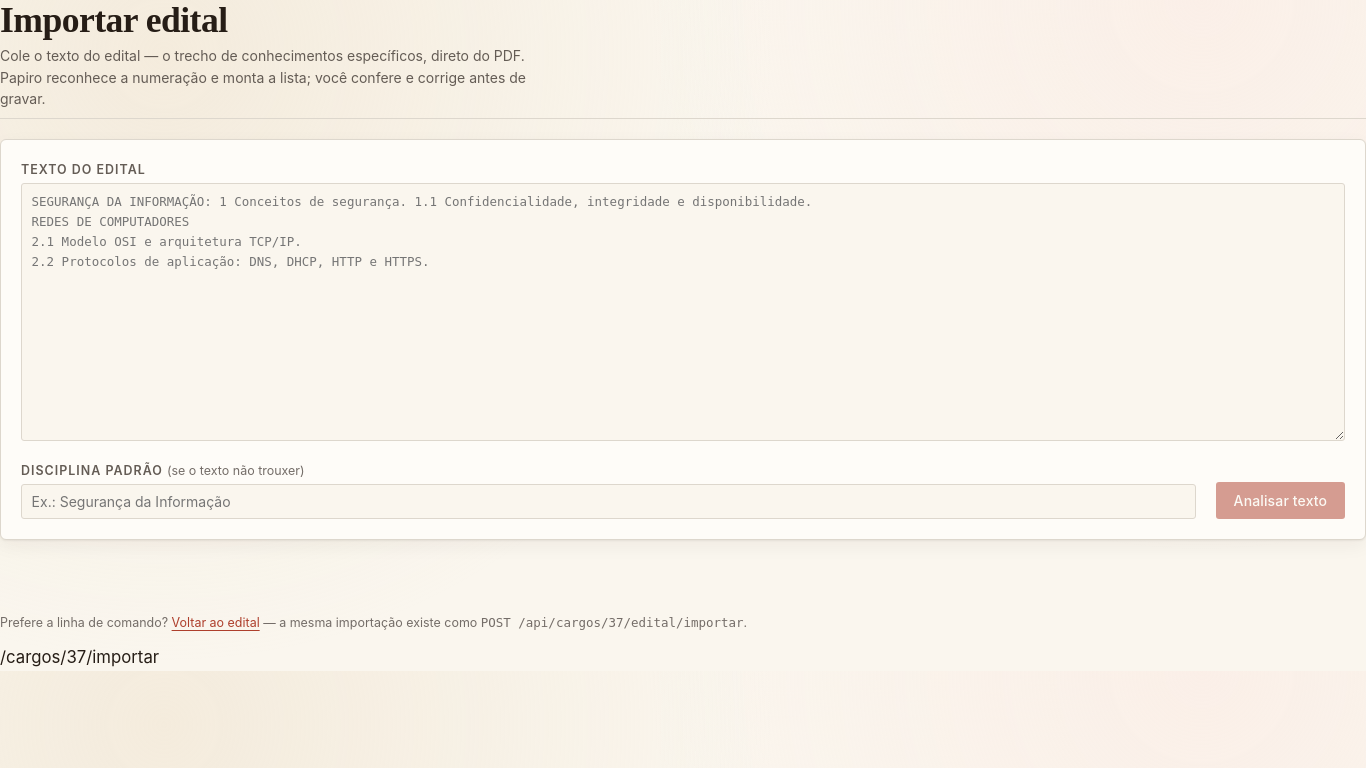
Test: PaginaImportar — analise › nao grava nada ao analisar: so mostra a previa
Click the text box labelled "Texto do edital". click: (683,312)
box: [21, 183, 1345, 441]
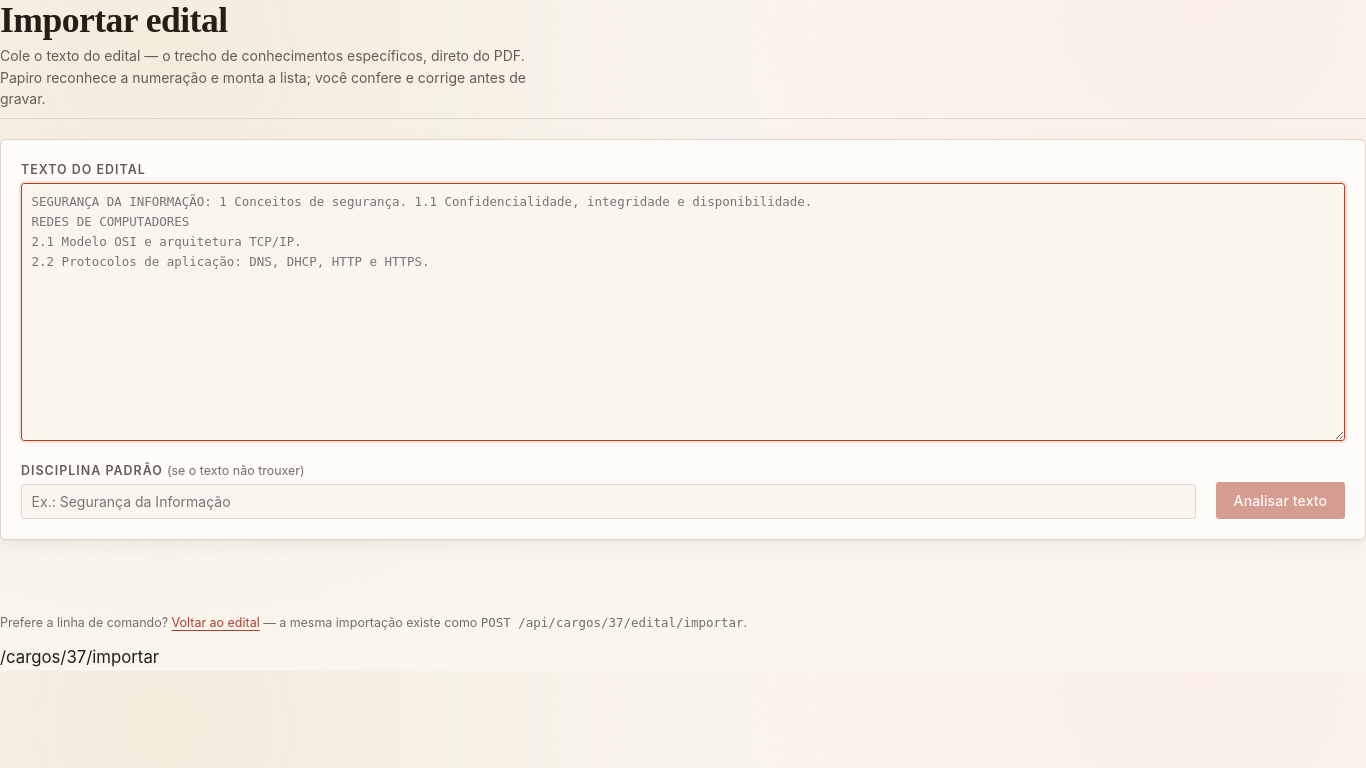
Type keys "SEGURANÇA DA INFORMAÇÃO 1.1 Confidencialidade e integridade. 1.2 Criptografia simétrica. REDES 2.1 Modelo OSI."
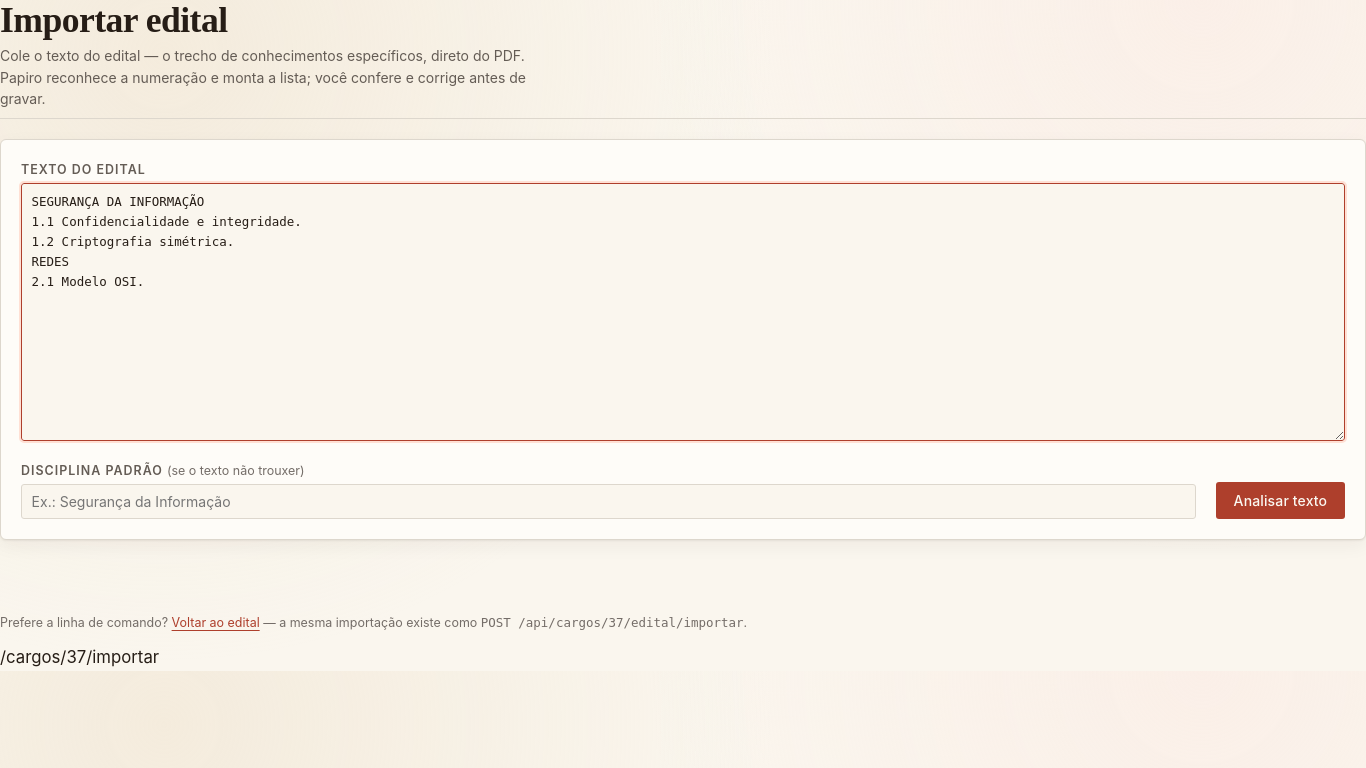
Click the button "Analisar texto". click: (1280,501)
box: [1216, 482, 1345, 519]
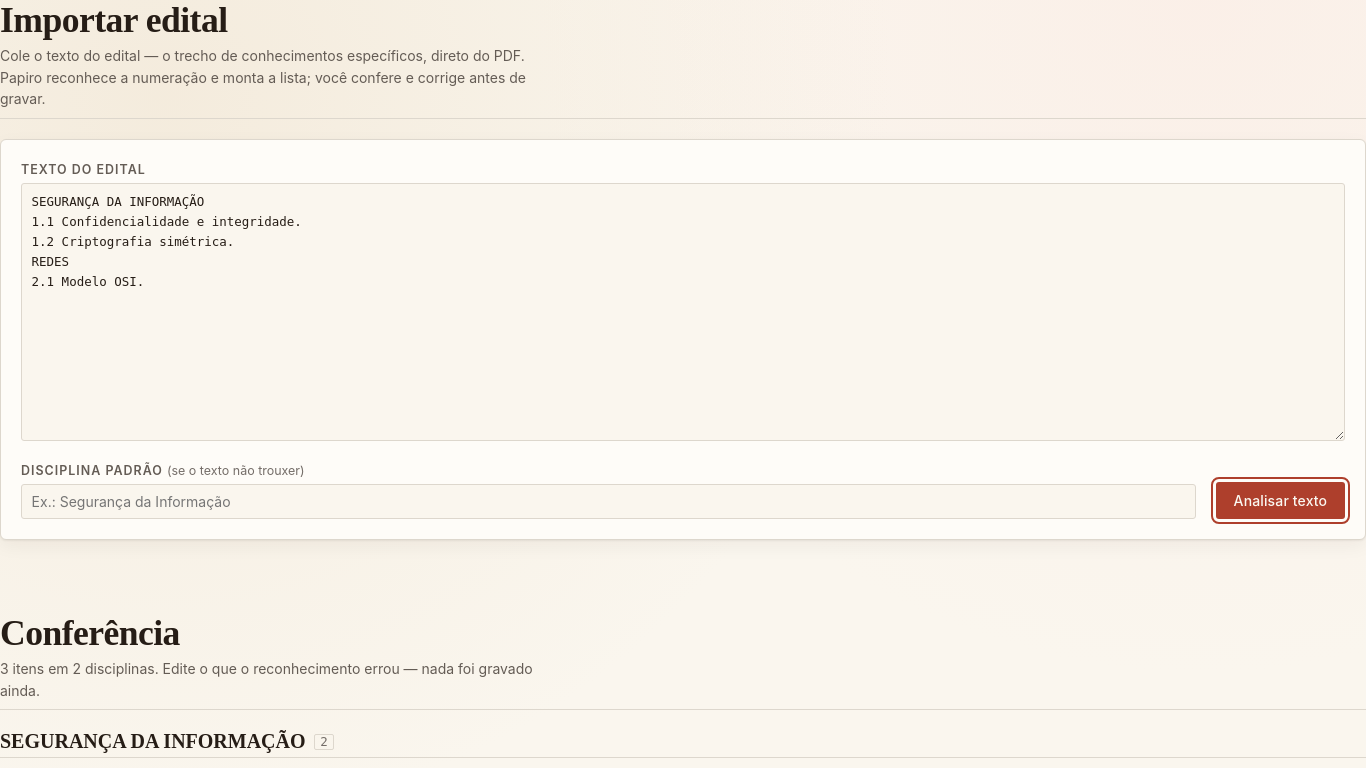
expect the text "3 itens em 2 disciplinas. Edite o que o reconhecimento errou — nada foi gravado ainda." is shown: met, box [0, 660, 533, 698]
